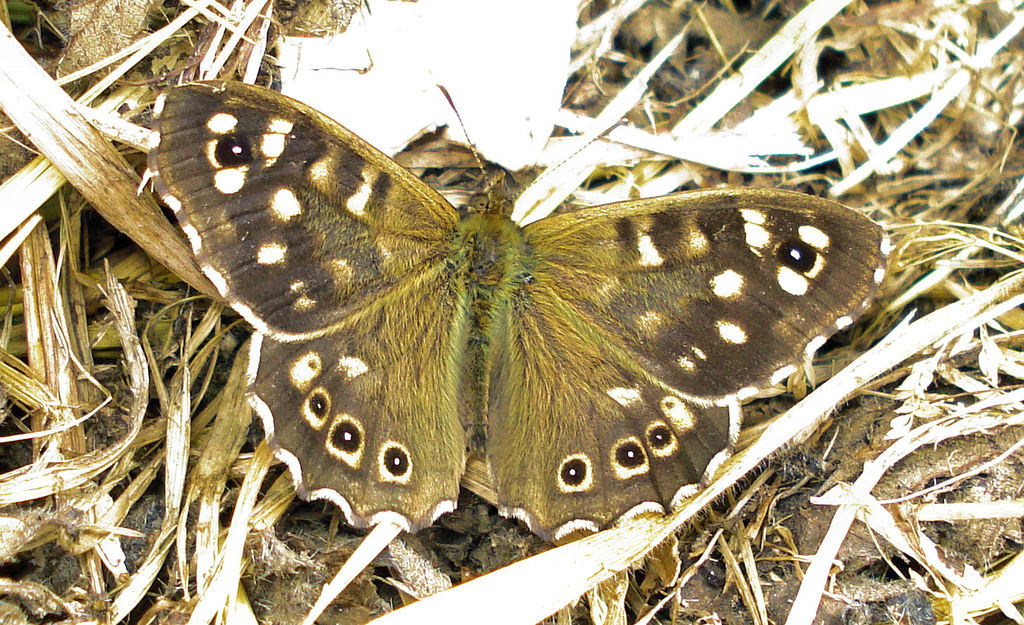Butterfly: (138, 59, 913, 545)
